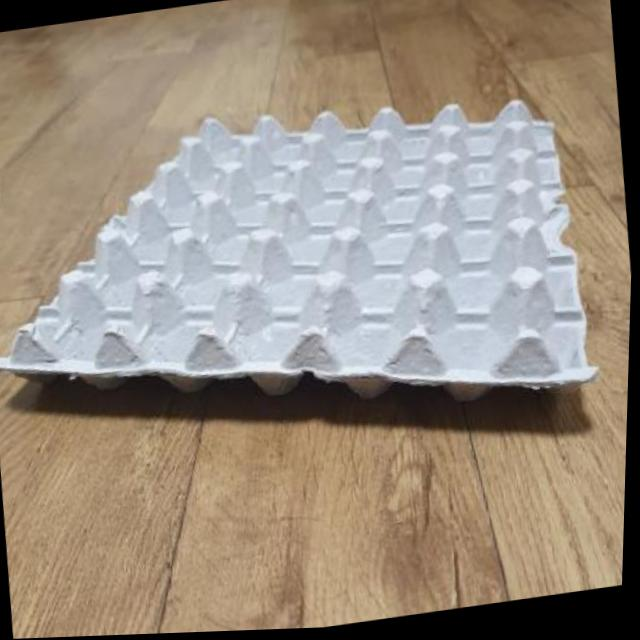box: (0, 16, 639, 566)
